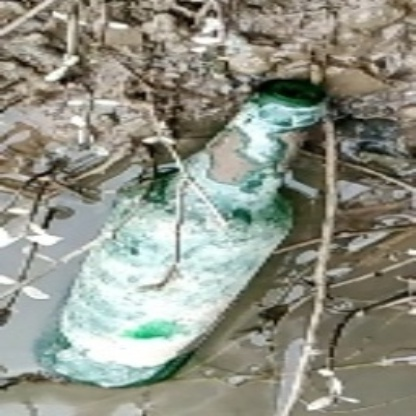bottle: (34, 64, 319, 390)
